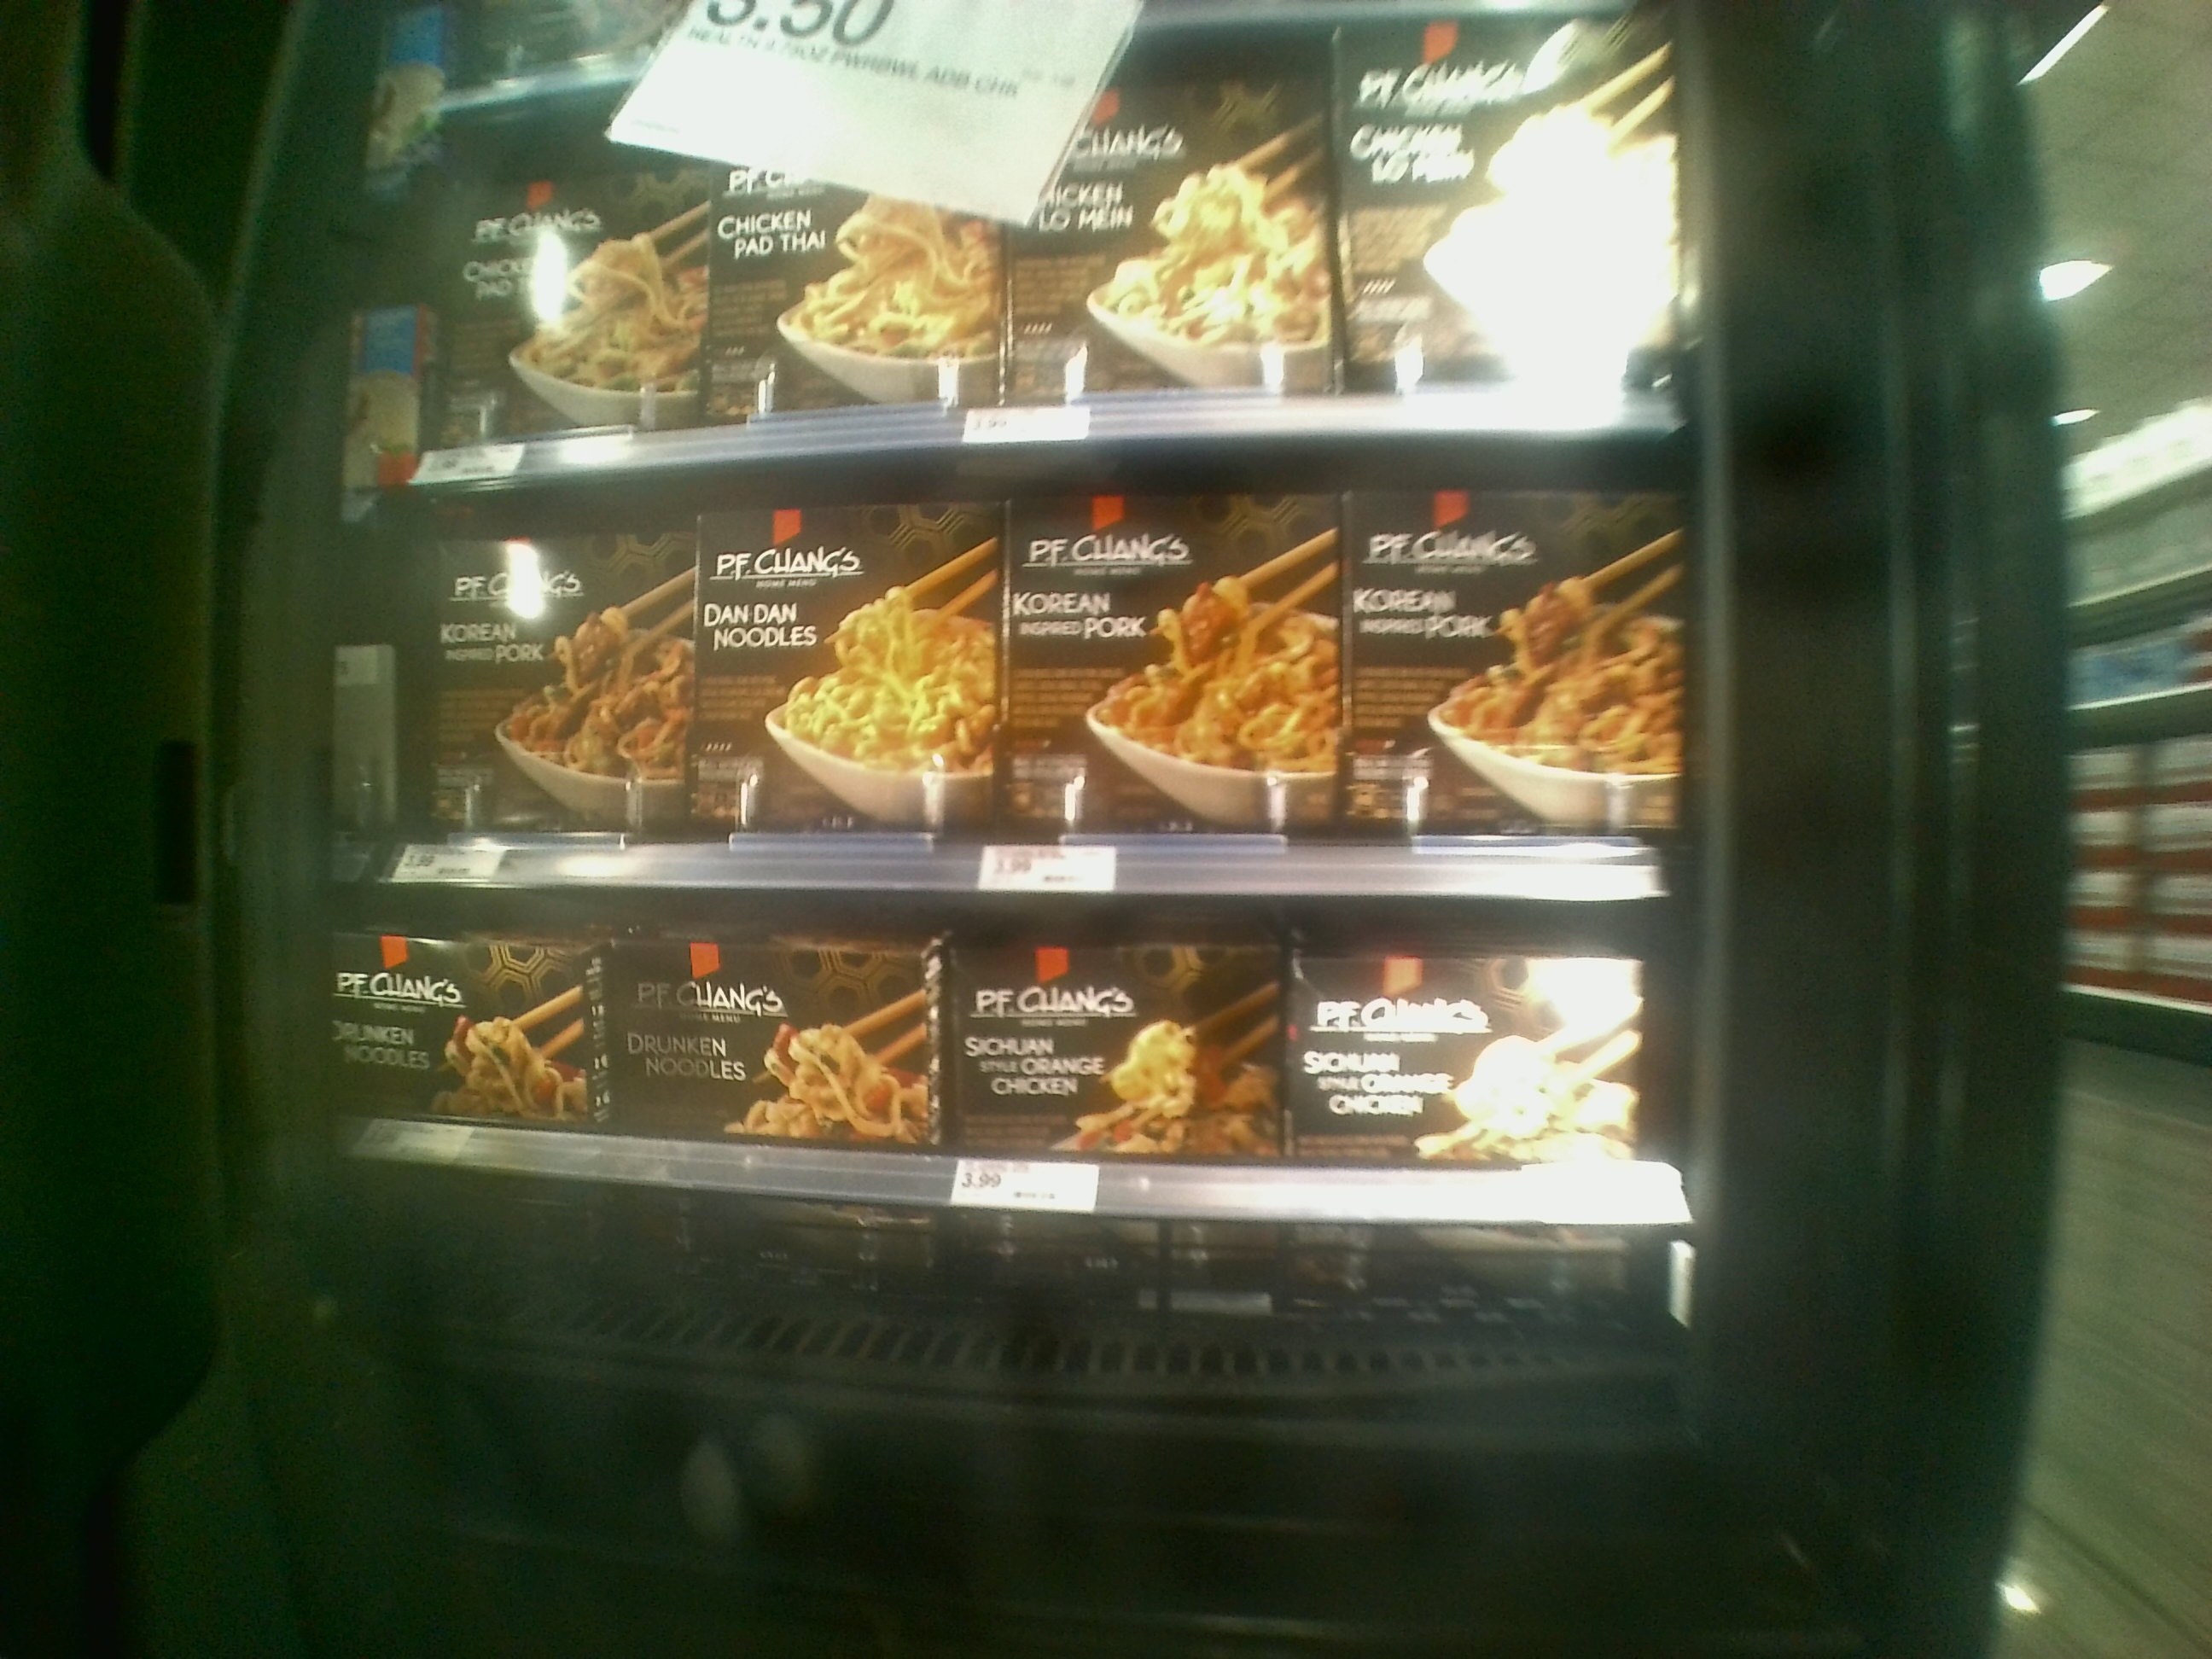shelf: (387, 432, 1667, 904), (338, 873, 1702, 1225)
